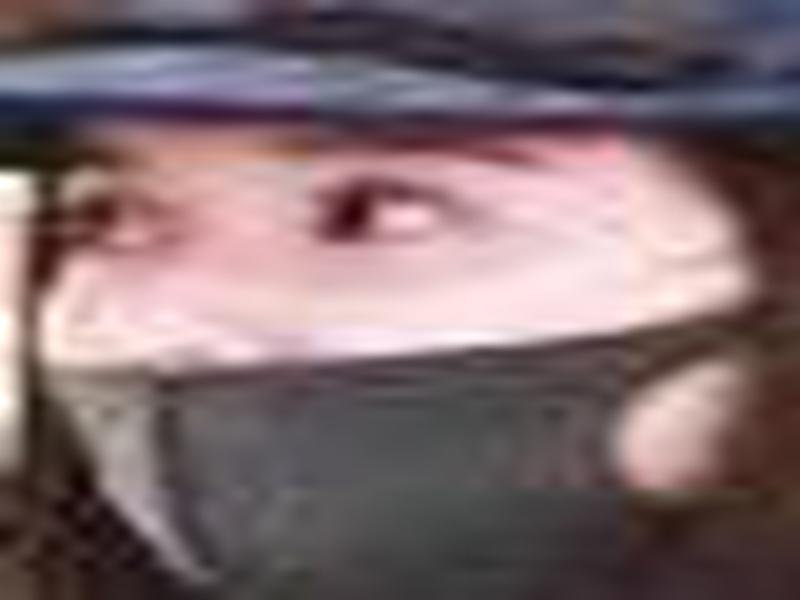with_mask: (24, 123, 755, 600)
